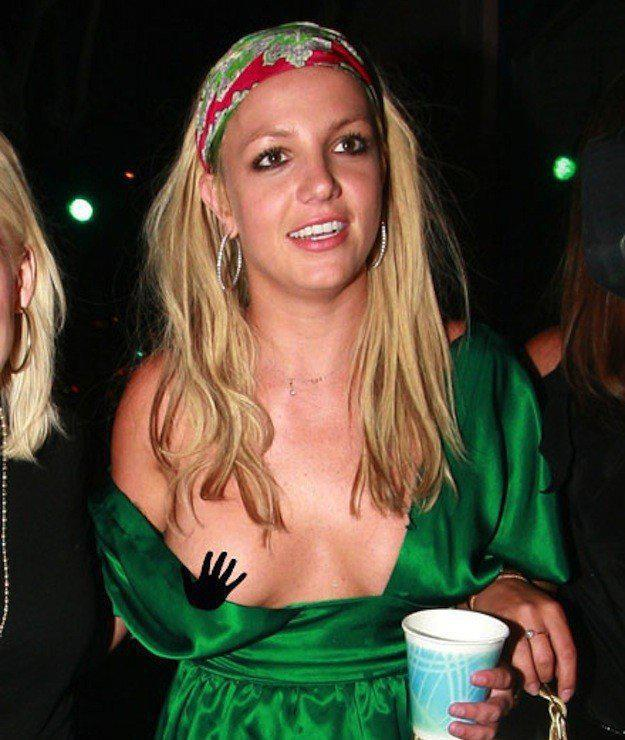Drunk: (236, 80, 379, 288)
